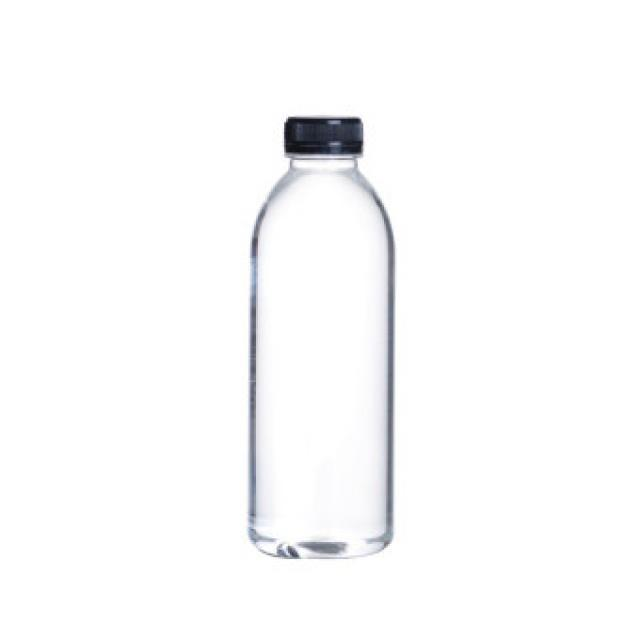plastic bottle: (248, 115, 396, 558)
